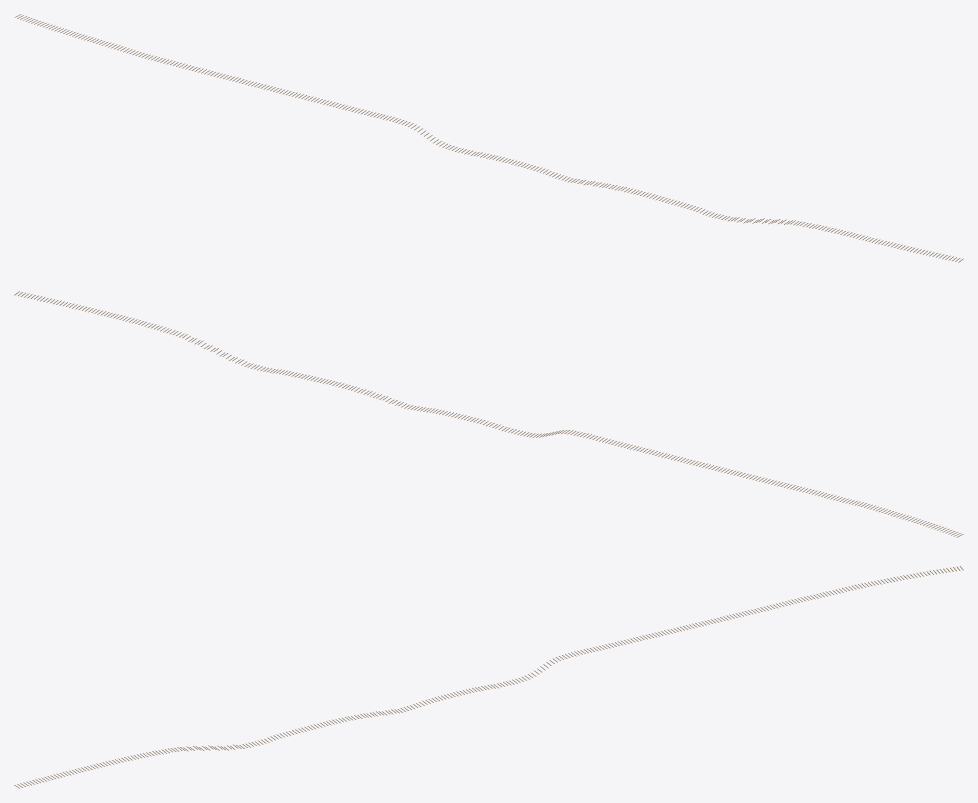
The model's file is c_1620_17825_rail_sleeper.glb.
The picture shows the model from 3 angles, top to bottom: view 1: azimuth 30°, elevation 25°; view 2: azimuth 210°, elevation 25°; view 3: azimuth 270°, elevation 25°; orthographic projection. The views are drawn at different scales.
Parts seen in each view (by area): view 1: geometry_0; view 2: geometry_0; view 3: geometry_0.
Boxes of the visible parts, x1,y1,x2,y2 form: geometry_0: (14,14,963,262); geometry_0: (14,291,963,537); geometry_0: (14,566,963,788).
Bounding box in the file's own units: 118 × 4.3 × 214.
